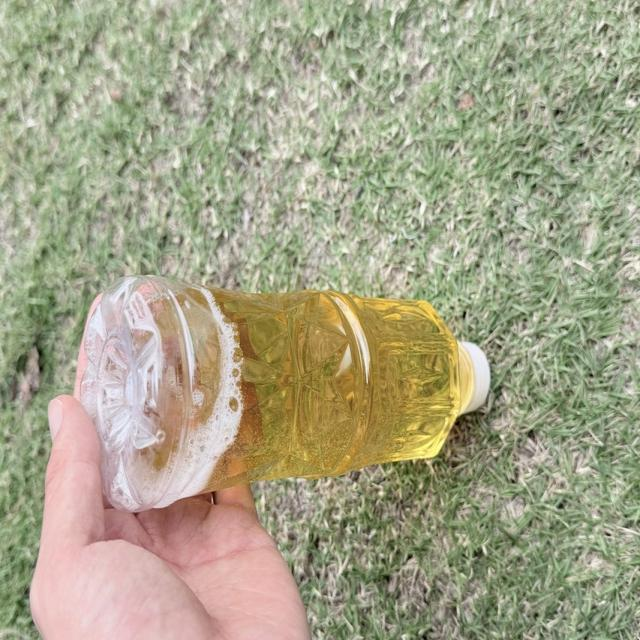high: (80, 276, 489, 511)
